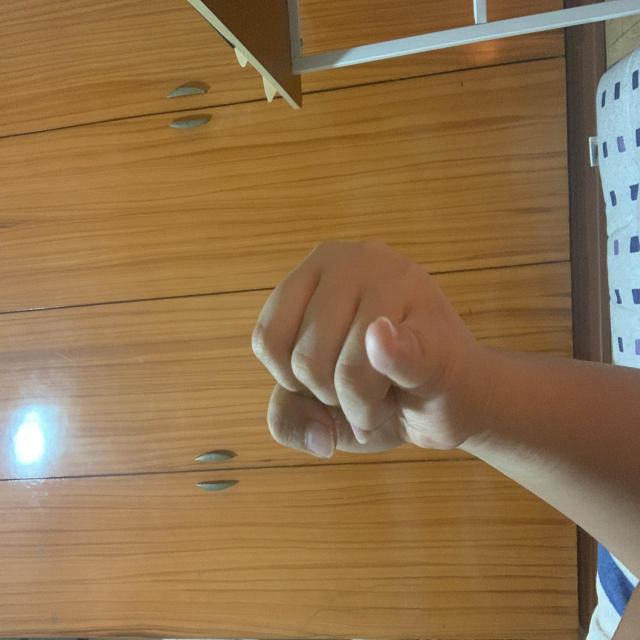J: (234, 250, 462, 485)
